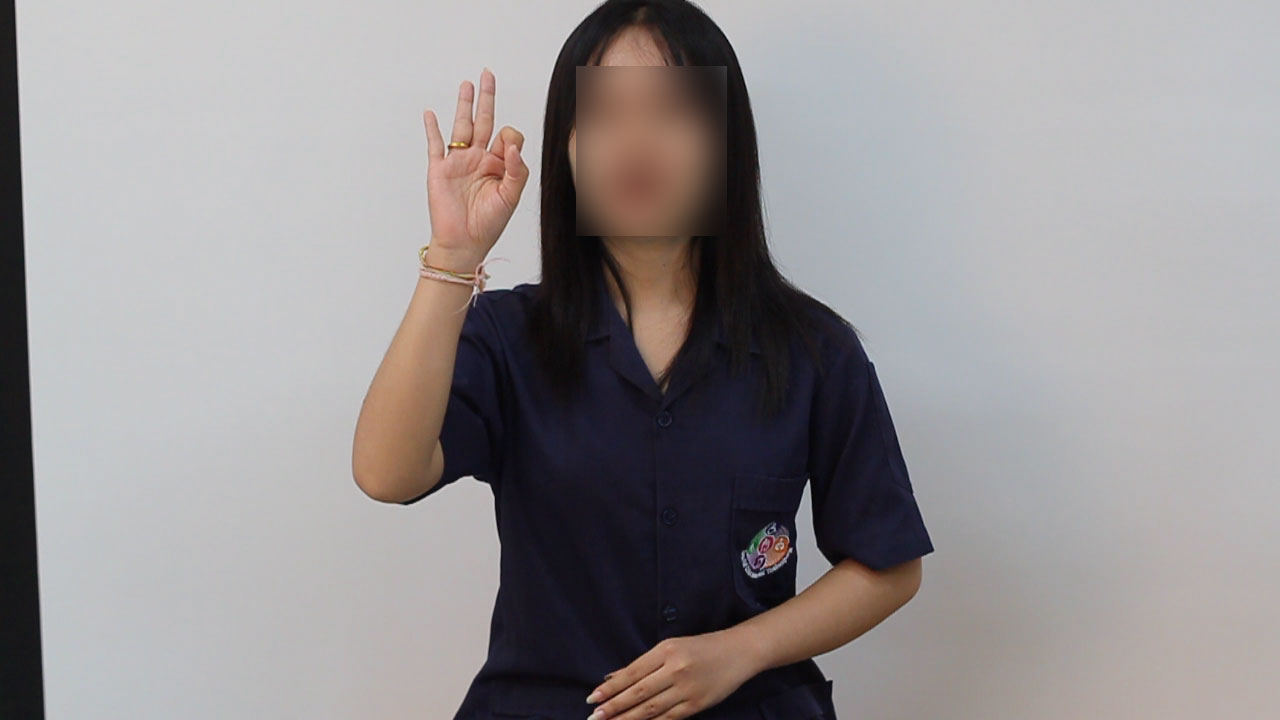for: (405, 60, 538, 273)
